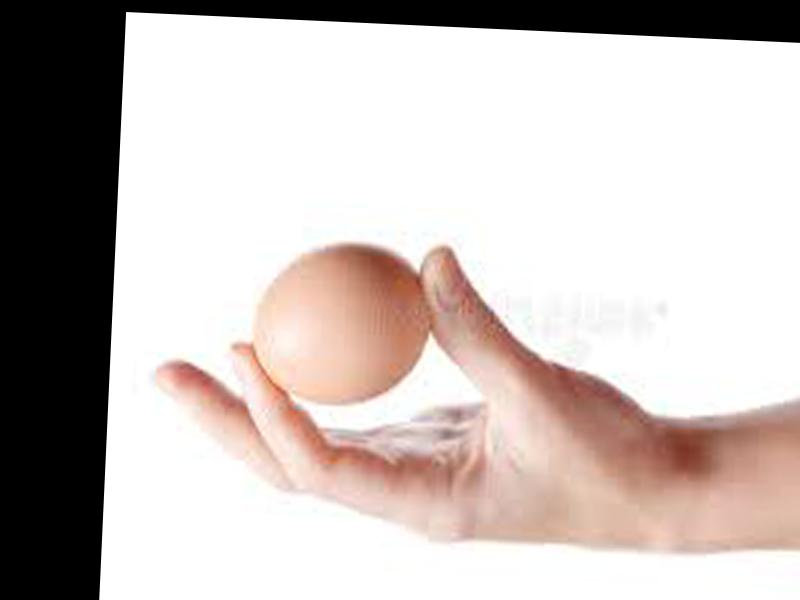Eggs: (251, 240, 436, 406)
